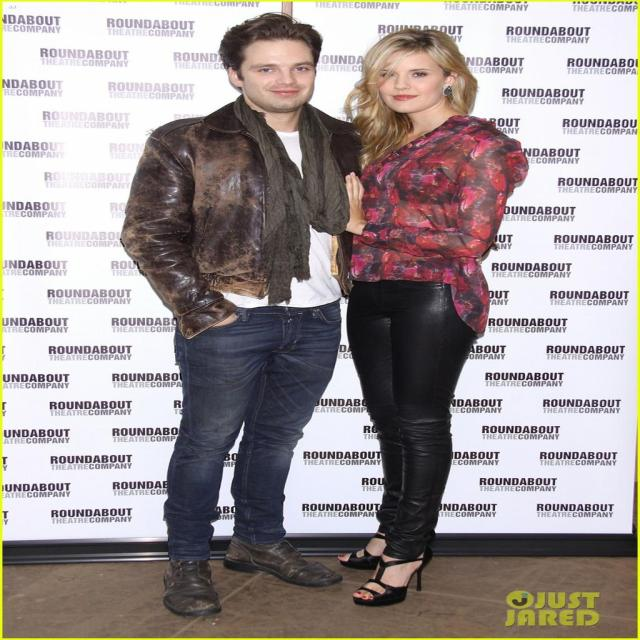Face: (356, 40, 472, 113), (241, 33, 322, 111)
